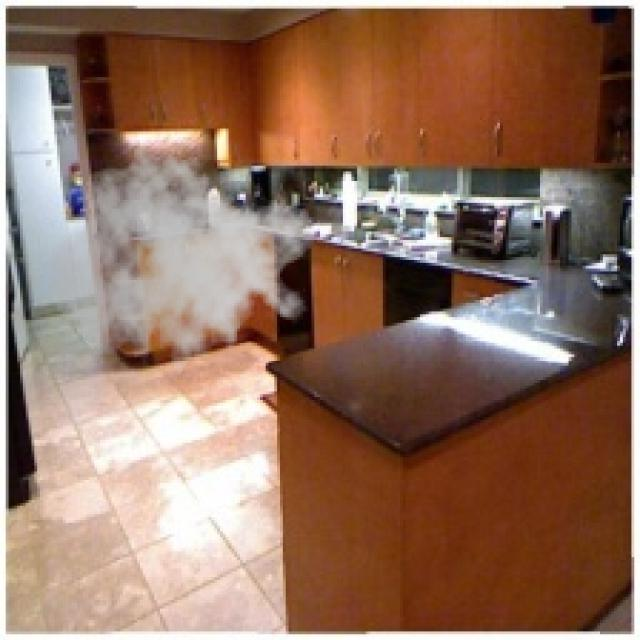smoke: (49, 140, 317, 386)
